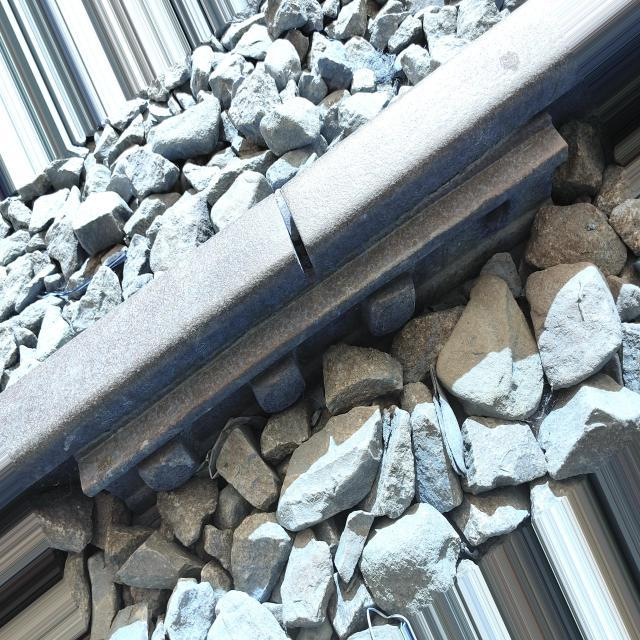Defective Joint: (76, 110, 568, 533)
